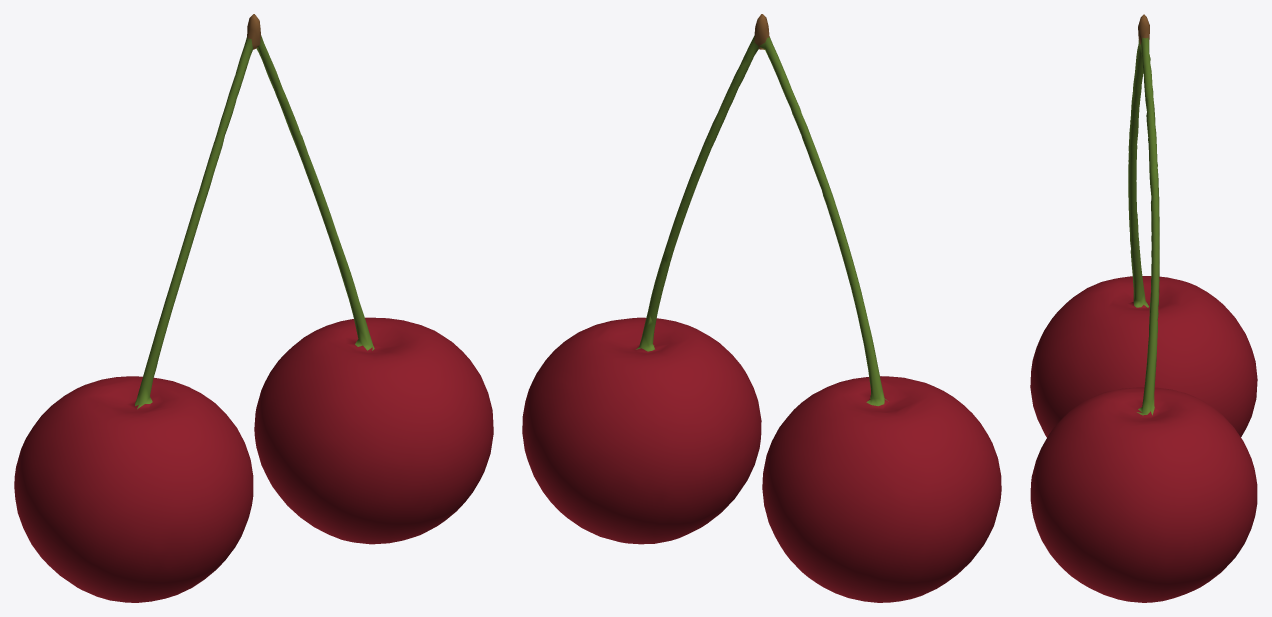
The picture shows the model from 3 angles, left to right: view 1: azimuth 30°, elevation 25°; view 2: azimuth 150°, elevation 25°; view 3: azimuth 270°, elevation 25°; orthographic projection. The views are drawn at different scales.
Visible parts, largest first — view 1: Complete joined-stem cherry pair; view 2: Complete joined-stem cherry pair; view 3: Complete joined-stem cherry pair.
Boxes of the visible parts, x1,y1,x2,y2 form: Complete joined-stem cherry pair: (14, 14, 493, 602); Complete joined-stem cherry pair: (522, 14, 1001, 602); Complete joined-stem cherry pair: (1030, 14, 1257, 602).
Size of the model in its own units: 0.0633 by 0.0743 by 0.0293.
